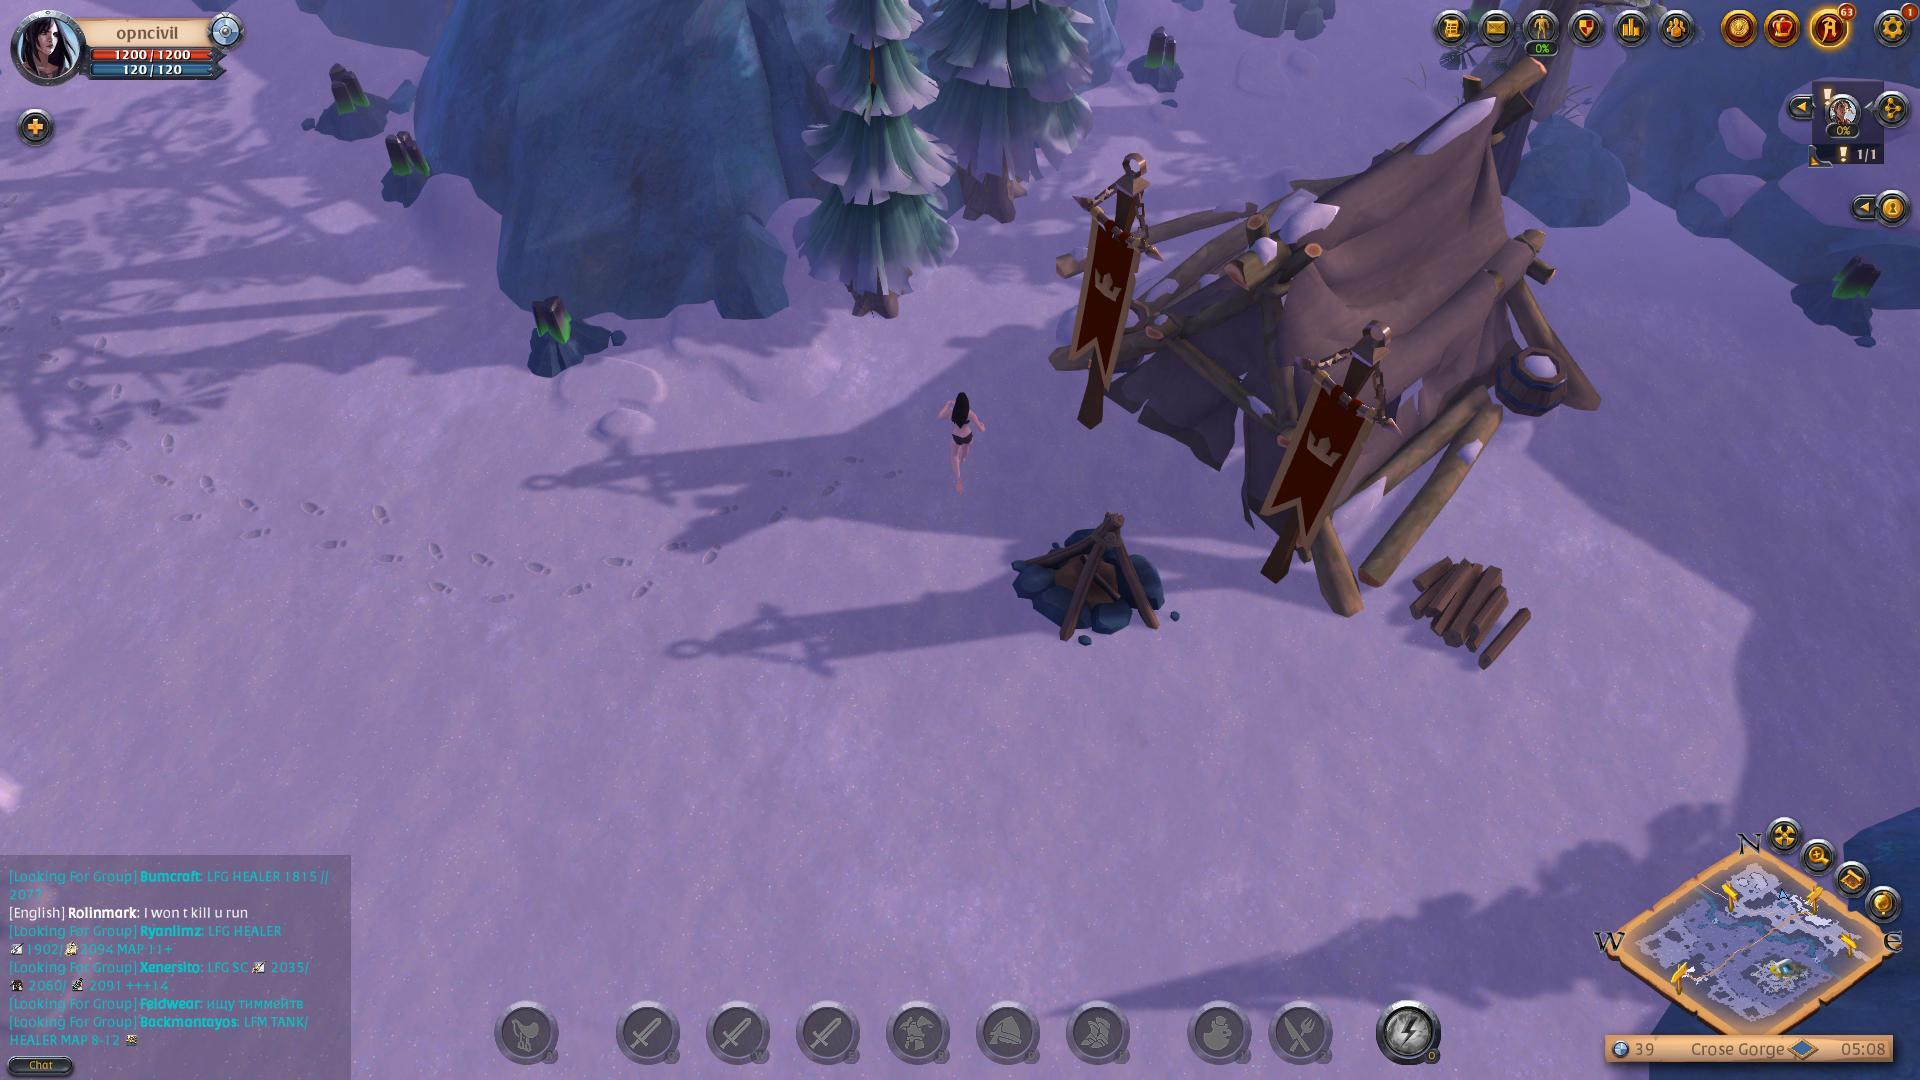tin_ore: (524, 285, 636, 390), (1782, 253, 1904, 328), (310, 57, 392, 140), (372, 131, 444, 216), (1122, 17, 1191, 100)
